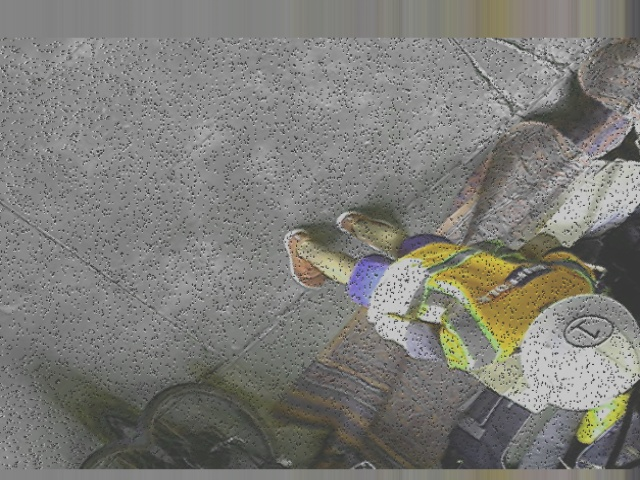one: (555, 305, 619, 357)
